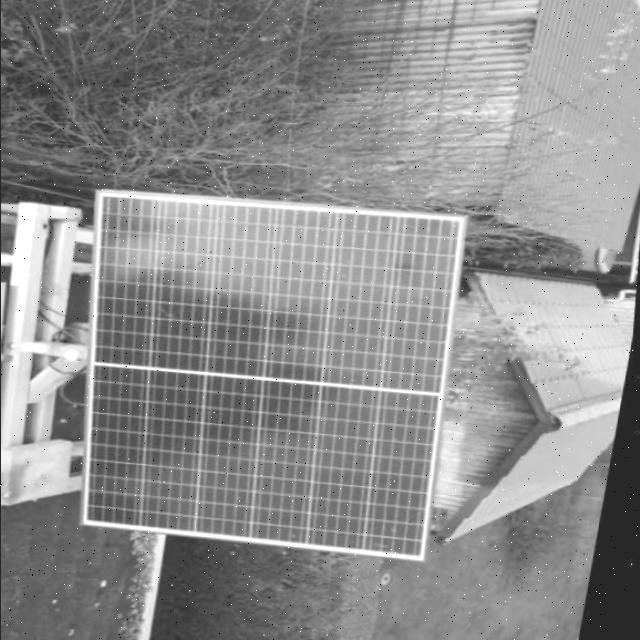Normal Solar Panel: (44, 181, 487, 561)
